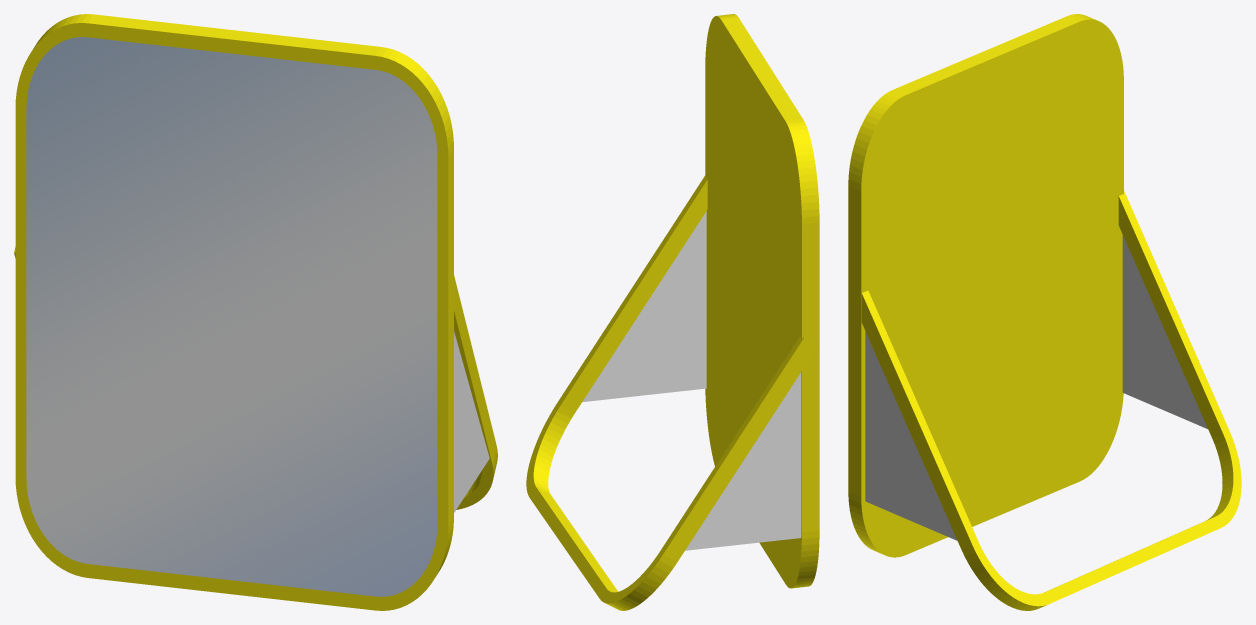
Rendered from deflectorY.obj.
The picture shows the model from 3 angles, left to right: view 1: azimuth 30°, elevation 25°; view 2: azimuth 150°, elevation 25°; view 3: azimuth 270°, elevation 25°; orthographic projection. The views are drawn at different scales.
Parts seen in each view (by area): view 1: deflectorY_Куб.067; view 2: deflectorY_Куб.067; view 3: deflectorY_Куб.067.
Boxes of the visible parts, x1=… form: deflectorY_Куб.067: x1=14, y1=14, x2=497, y2=610; deflectorY_Куб.067: x1=526, y1=14, x2=819, y2=610; deflectorY_Куб.067: x1=848, y1=14, x2=1241, y2=610.
Bounding box in the file's own units: 0.1521 × 0.1973 × 0.1529.
Materials: 3 (1 with a texture image).
